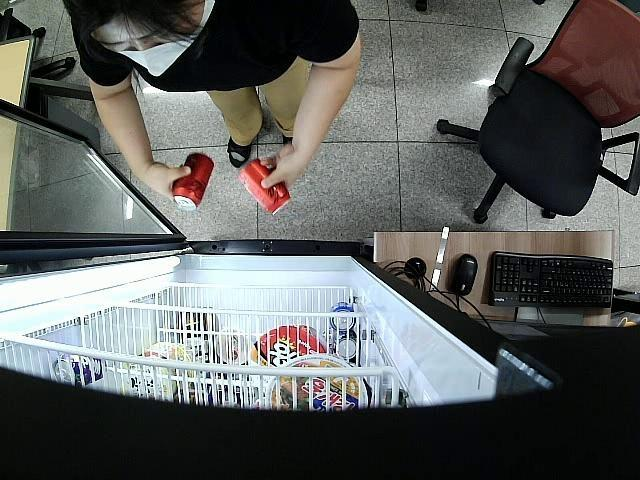11_cocaColaZero: (236, 158, 291, 216), (172, 152, 214, 209)
